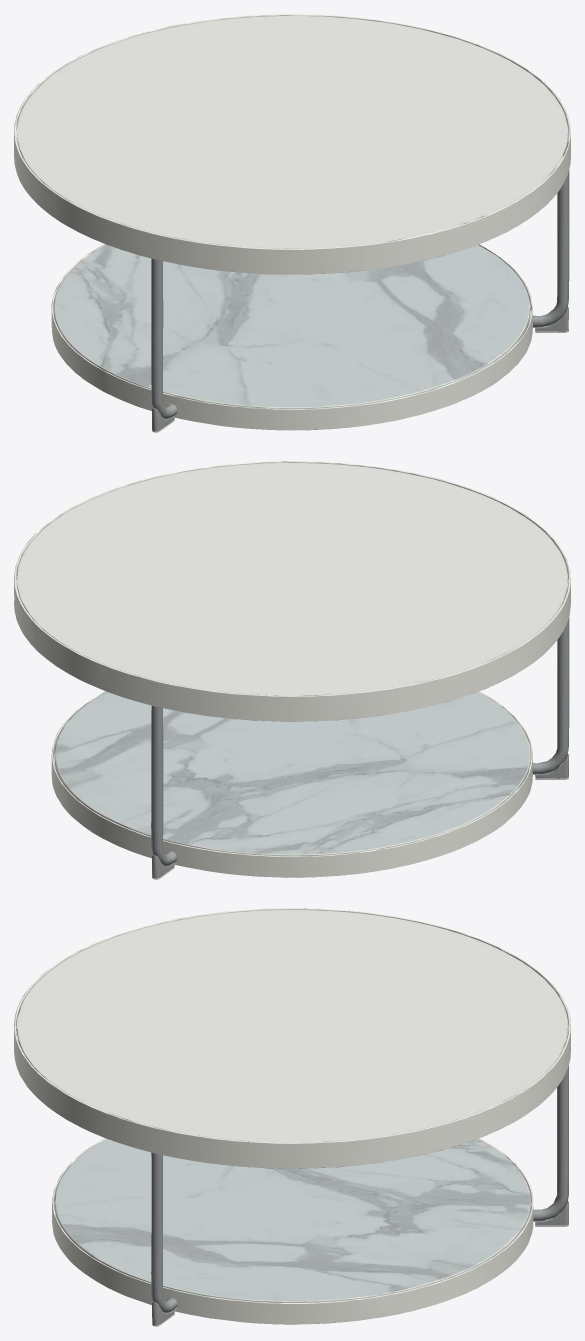
File: frotorp-mesa-de-centro-blanco-cromadoblanco-vidrio.glb
3 views of the same model, one above another, from view 1: azimuth 30°, elevation 25°; view 2: azimuth 150°, elevation 25°; view 3: azimuth 270°, elevation 25° (orthographic).
Visible parts, largest first — view 1: ASY_ART_70622091_S01_NV01; view 2: ASY_ART_70622091_S01_NV01; view 3: ASY_ART_70622091_S01_NV01.
Part boxes in pixels (<box>): ASY_ART_70622091_S01_NV01: <box>14,14,570,432</box>; ASY_ART_70622091_S01_NV01: <box>14,461,570,879</box>; ASY_ART_70622091_S01_NV01: <box>14,908,570,1326</box>.
Size of the model in its own units: 0.883 by 0.349 by 0.883.
Materials: 2 (1 with a texture image).
